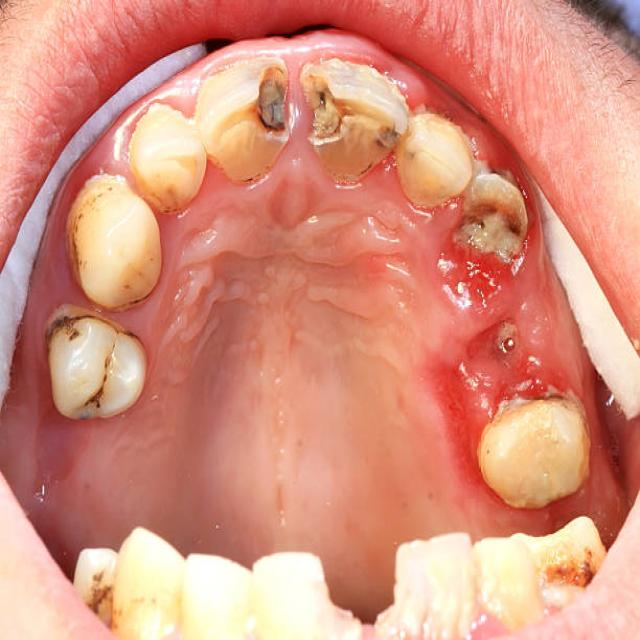Gingivitis: (443, 348, 481, 474), (439, 247, 515, 310)
